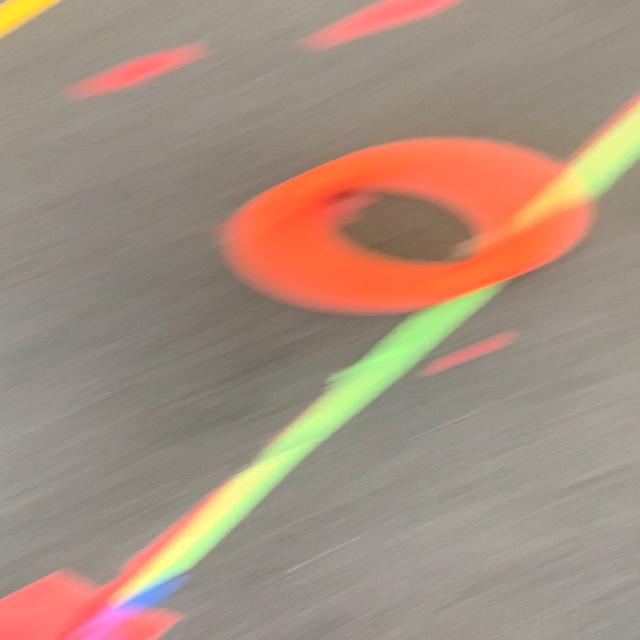notes: (228, 136, 590, 310)
